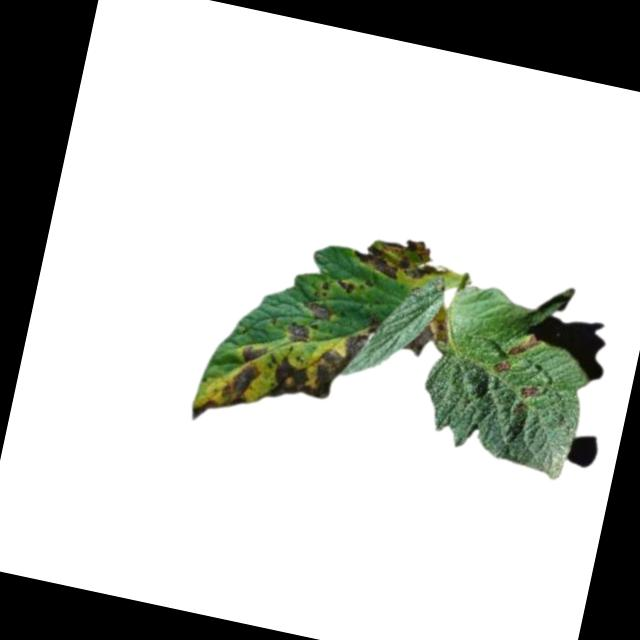Early_blight: (189, 292, 376, 455), (348, 228, 437, 289), (401, 312, 451, 365), (509, 332, 541, 362), (301, 297, 333, 324), (284, 319, 314, 345), (331, 275, 356, 300), (490, 357, 515, 378), (519, 384, 542, 404)
